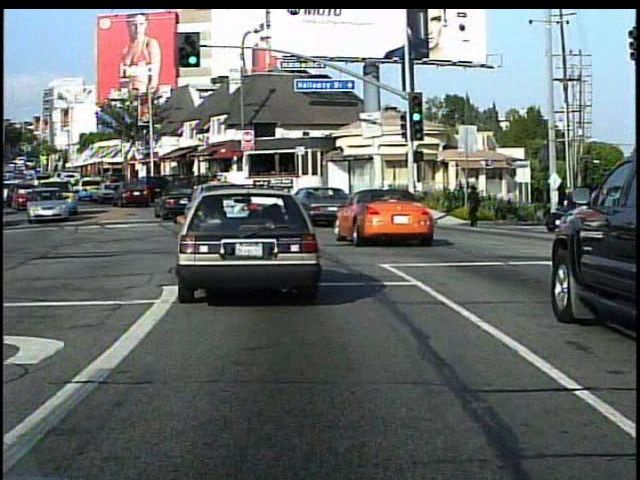person: (554, 183, 577, 243), (462, 182, 484, 230)
